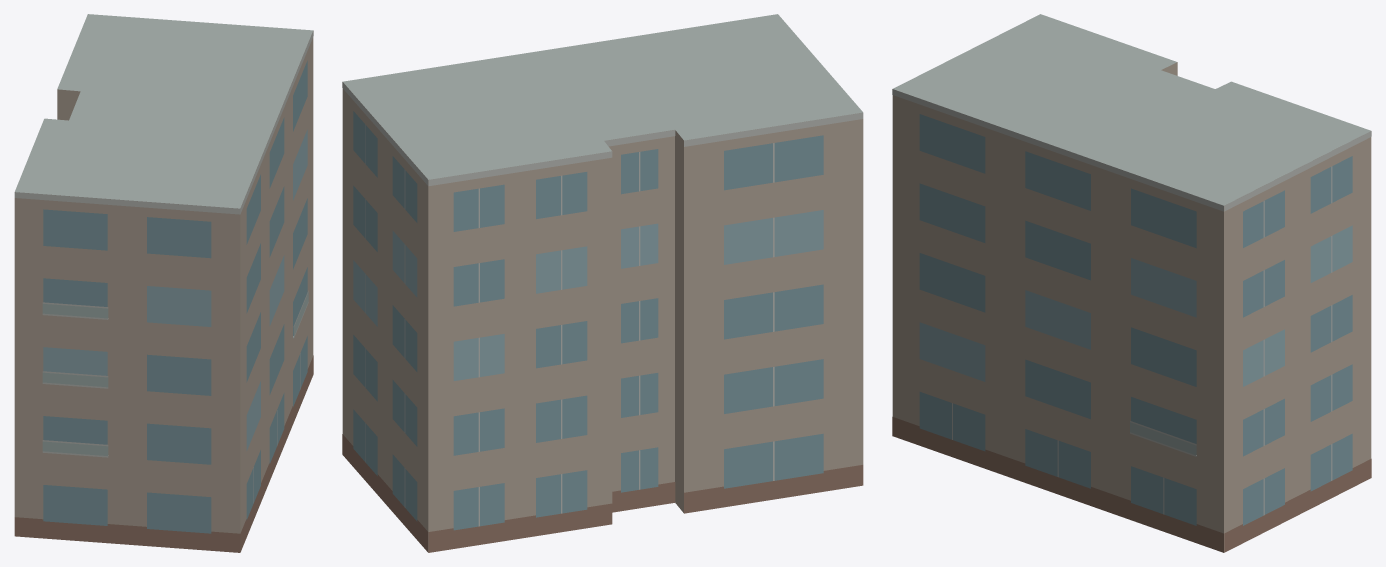
The model's file is survey-upis-32894148.glb.
3 renders of one model, left to right at view 1: azimuth 30°, elevation 25°; view 2: azimuth 150°, elevation 25°; view 3: azimuth 270°, elevation 25°, orthographic. The views are drawn at different scales.
Parts seen in each view (by area): view 1: survey-upis-32894148.tmp; view 2: survey-upis-32894148.tmp; view 3: survey-upis-32894148.tmp.
Boxes of the visible parts, <box> form: survey-upis-32894148.tmp: <box>14,14,313,552</box>; survey-upis-32894148.tmp: <box>342,14,863,552</box>; survey-upis-32894148.tmp: <box>892,14,1371,552</box>.
Bounding box in the file's own units: 16.83 × 14.2 × 17.77.
